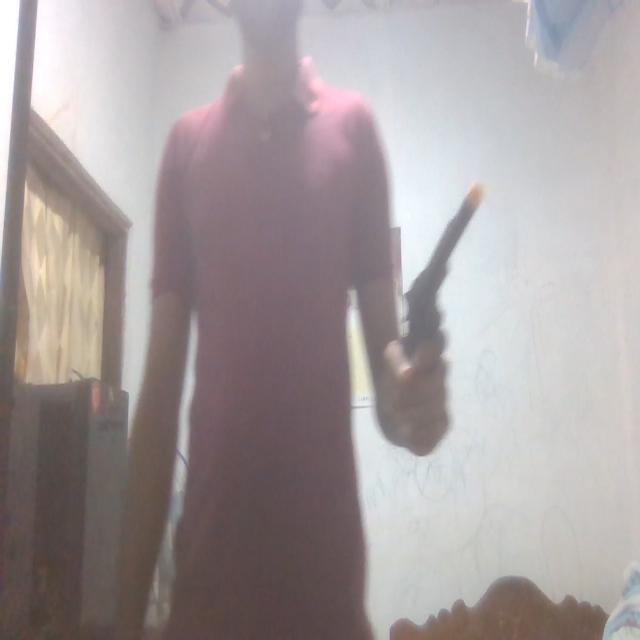Gun_Holder: (393, 162, 492, 448)
Person: (122, 0, 444, 640)
